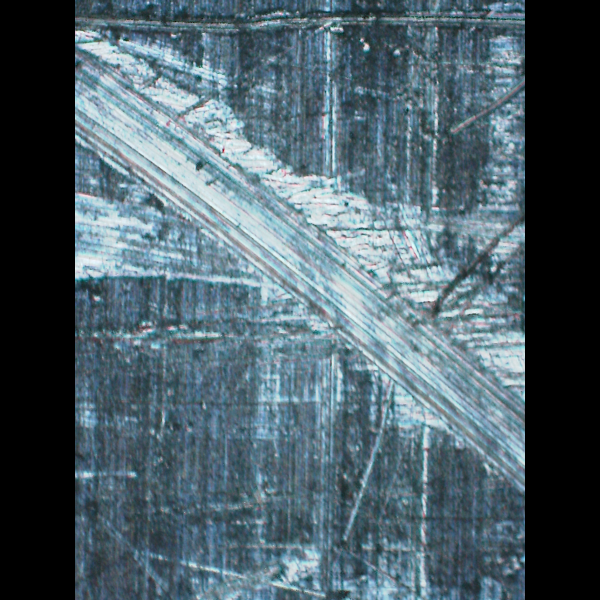d: (75, 0, 524, 504)
